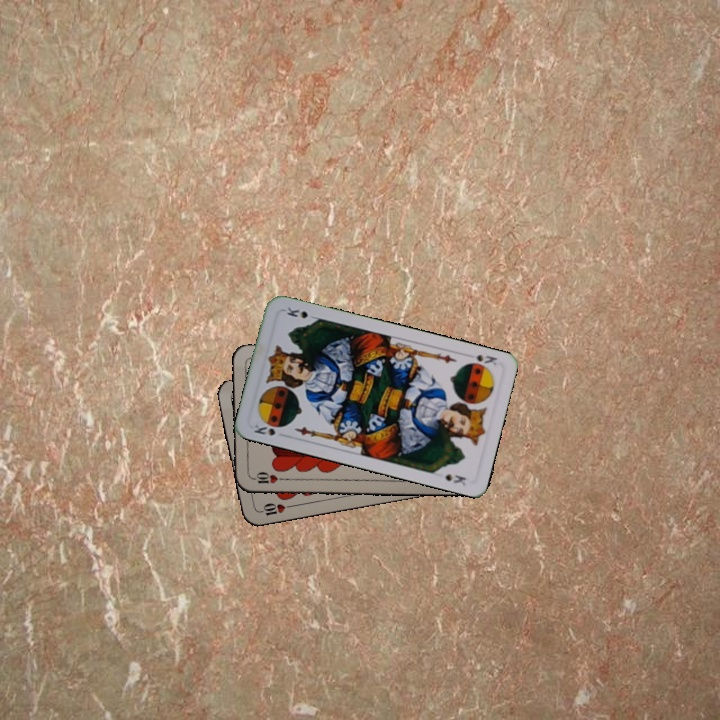H10: (254, 499, 294, 518), (247, 469, 287, 486)
SK: (462, 350, 500, 368), (250, 418, 278, 438)
